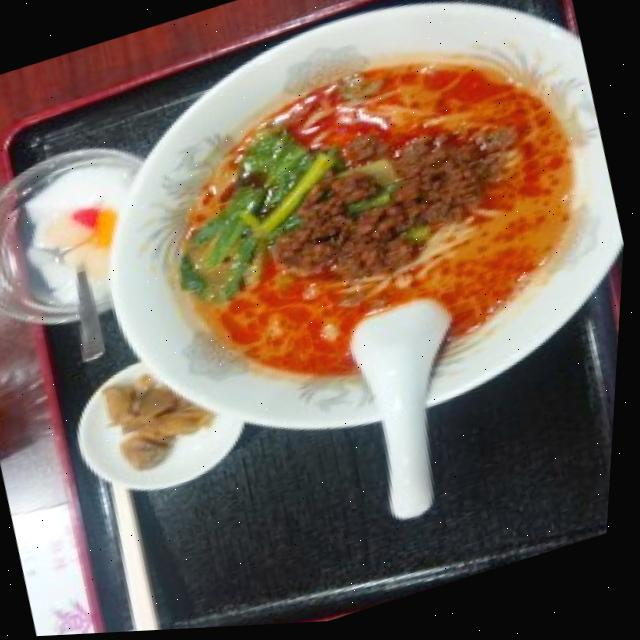面条主食: (71, 0, 640, 498)
